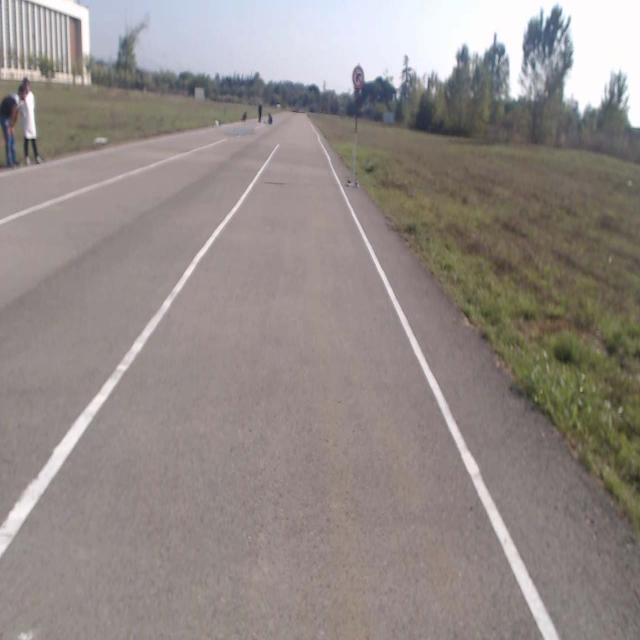sagadonulmez: (353, 65, 364, 87)
